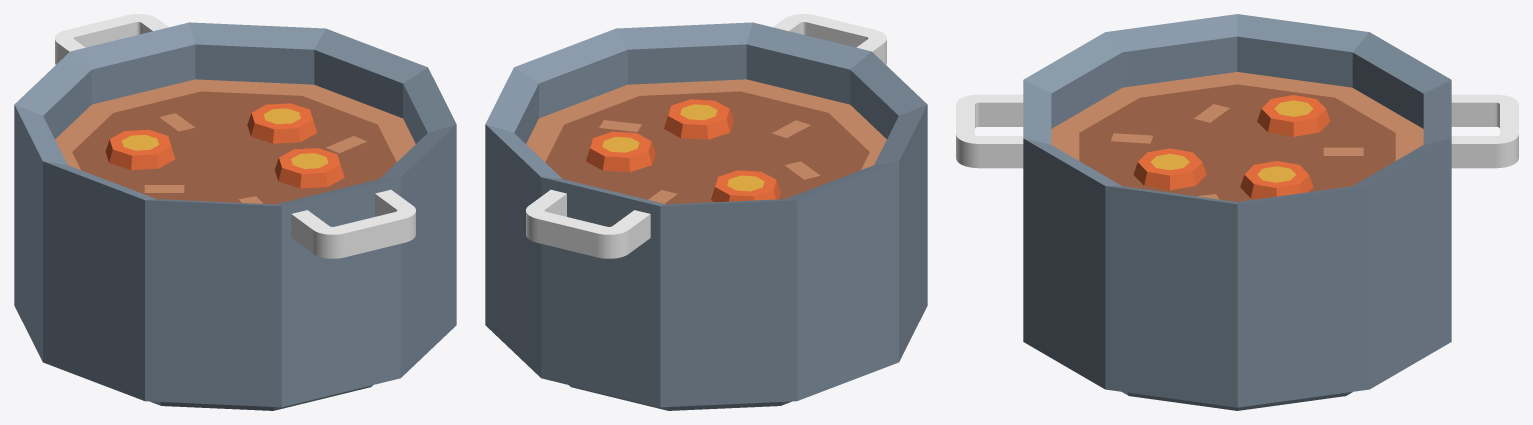
The model's file is potStew.obj.
3 views of the same model, side by side, from view 1: azimuth 30°, elevation 25°; view 2: azimuth 150°, elevation 25°; view 3: azimuth 270°, elevation 25° (orthographic).
Visible parts, largest first — view 1: potStew; view 2: potStew; view 3: potStew.
Boxes of the visible parts, bbox=[...] form: potStew: bbox=[14, 14, 456, 410]; potStew: bbox=[485, 14, 927, 410]; potStew: bbox=[956, 14, 1518, 410].
Bounding box in the file's own units: 0.6574 × 0.3608 × 0.8221.
